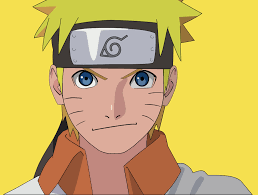Naruto: (53, 21, 177, 154)
